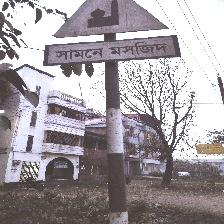Mosque in front: (48, 0, 178, 69)
